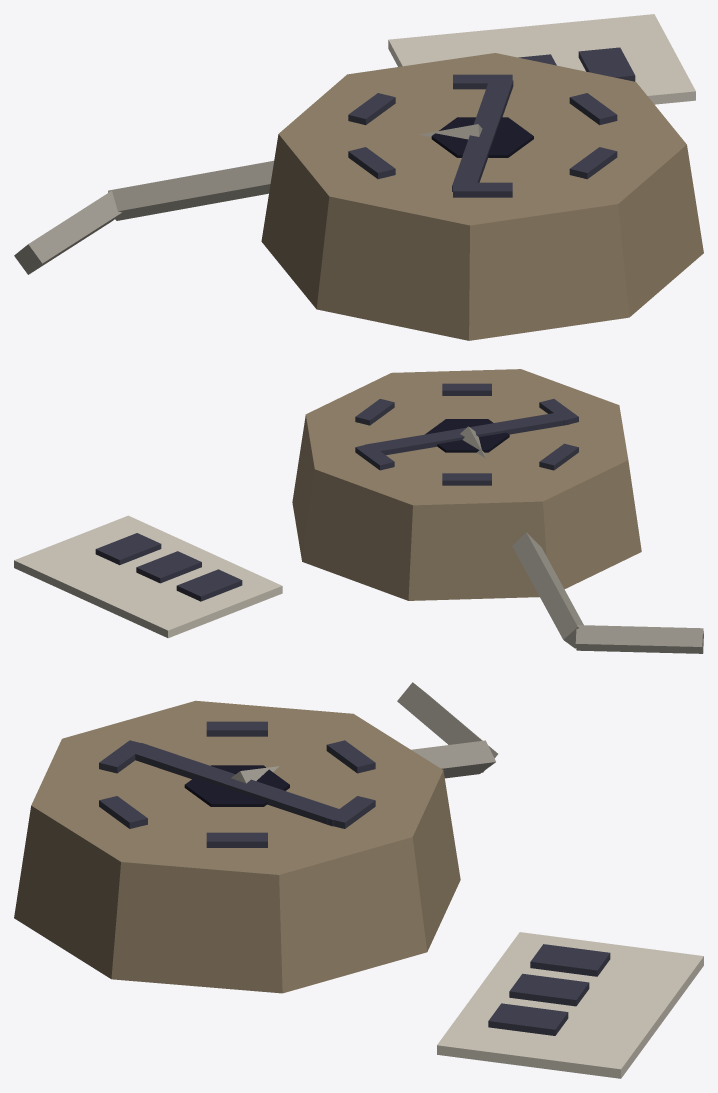
File: cork_float.glb
3 views of the same model, one above another, from view 1: azimuth 30°, elevation 25°; view 2: azimuth 150°, elevation 25°; view 3: azimuth 270°, elevation 25° (orthographic). The views are drawn at different scales.
Parts seen in each view (by area): view 1: driftwood_d25, bone_d10, ink_l15, bone_d35, ink_d20; view 2: driftwood_d25, bone_d10, ink_l15, bone_d35, ink_d20; view 3: driftwood_d25, bone_d10, ink_l15, bone_d35, ink_d20.
Boxes of the visible parts, x1,y1,x2,y2 form: driftwood_d25: [261, 53, 703, 340]; bone_d10: [388, 14, 695, 104]; ink_l15: [348, 47, 635, 197]; bone_d35: [14, 124, 482, 274]; ink_d20: [431, 117, 533, 157]; driftwood_d25: [292, 369, 641, 600]; bone_d10: [14, 515, 282, 638]; ink_l15: [95, 383, 578, 601]; bone_d35: [460, 426, 703, 653]; ink_d20: [425, 419, 509, 452]; driftwood_d25: [14, 700, 460, 993]; bone_d10: [437, 932, 703, 1078]; ink_l15: [99, 721, 610, 1035]; bone_d35: [231, 682, 497, 783]; ink_d20: [184, 765, 289, 806].
Bounding box in the file's own units: 0.4972 × 0.0796 × 0.3936.
